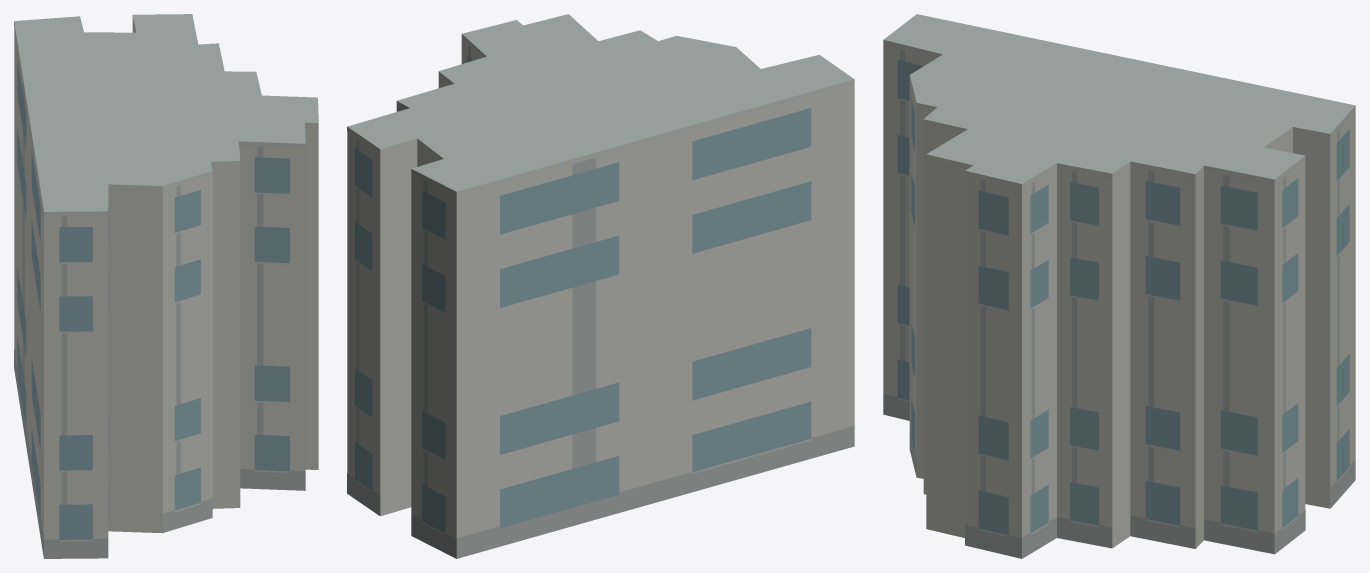
The model's file is survey-upis-32574729.glb.
3 views of the same model, side by side, from view 1: azimuth 30°, elevation 25°; view 2: azimuth 150°, elevation 25°; view 3: azimuth 270°, elevation 25° (orthographic). The views are drawn at different scales.
Visible parts, largest first — view 1: survey-upis-32574729.tmp; view 2: survey-upis-32574729.tmp; view 3: survey-upis-32574729.tmp.
Boxes of the visible parts, left/top/right/bottom form: survey-upis-32574729.tmp: left=14, top=14, right=318, bottom=558; survey-upis-32574729.tmp: left=347, top=14, right=854, bottom=558; survey-upis-32574729.tmp: left=883, top=14, right=1355, bottom=558.
Size of the model in its own units: 16.65 by 17.1 by 19.53.
